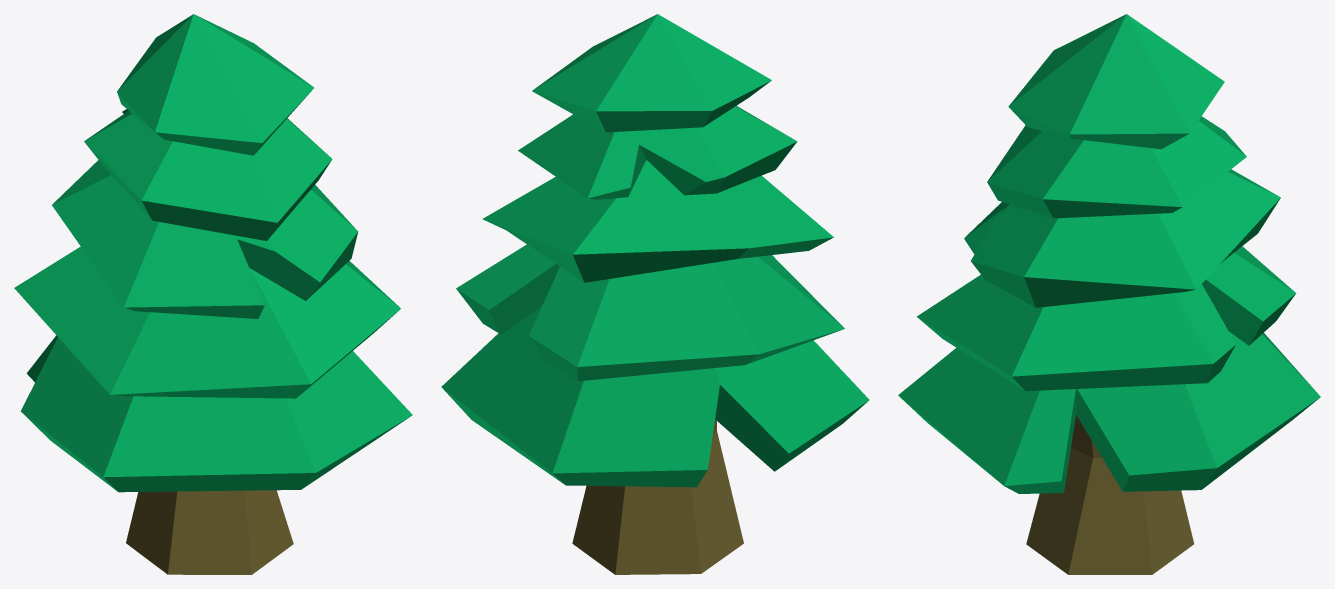
File: tree_pine1.fbx
The picture shows the model from 3 angles, left to right: view 1: azimuth 30°, elevation 25°; view 2: azimuth 150°, elevation 25°; view 3: azimuth 270°, elevation 25°; orthographic projection. The views are drawn at different scales.
Visible parts, largest first — view 1: Cylinder; view 2: Cylinder; view 3: Cylinder.
Part boxes in pixels (x1=…): Cylinder: x1=14, y1=14, x2=412, y2=574; Cylinder: x1=441, y1=14, x2=869, y2=574; Cylinder: x1=898, y1=14, x2=1320, y2=574.
Size of the model in its own units: 631 by 999 by 727.
